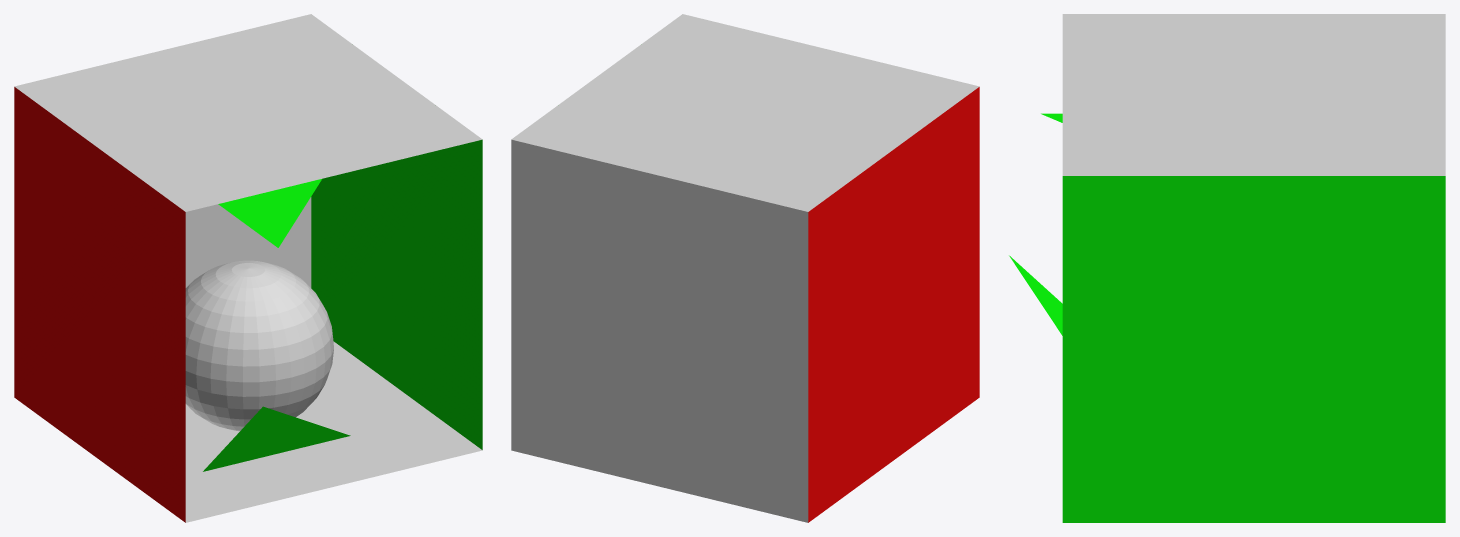
File: my_Cornell_Box_portals.obj
The picture shows the model from 3 angles, left to right: view 1: azimuth 30°, elevation 25°; view 2: azimuth 150°, elevation 25°; view 3: azimuth 270°, elevation 25°; orthographic projection. The views are drawn at different scales.
Visible parts, largest first — view 1: Plane.004, Plane, Plane.003, Plane.001, Sphere, Plane.002, Portal_we, Portal_wy; view 2: Plane.002, Plane.004, Plane; view 3: Plane.003, Plane, Portal_we.
Boxes of the visible parts, x1,y1,x2,y2 form: Plane.004: (14,87,185,522); Plane: (14,14,482,211); Plane.003: (311,139,482,449); Plane.001: (185,341,482,522); Sphere: (185,260,333,431); Plane.002: (185,197,311,287); Portal_we: (203,406,350,471); Portal_wy: (218,179,321,247); Plane.002: (511,139,808,522); Plane.004: (808,87,979,522); Plane: (511,14,979,211); Plane.003: (1062,176,1445,522); Plane: (1062,14,1445,175); Portal_we: (1009,255,1062,335).
Size of the model in its own units: 4 by 4 by 4.57.
